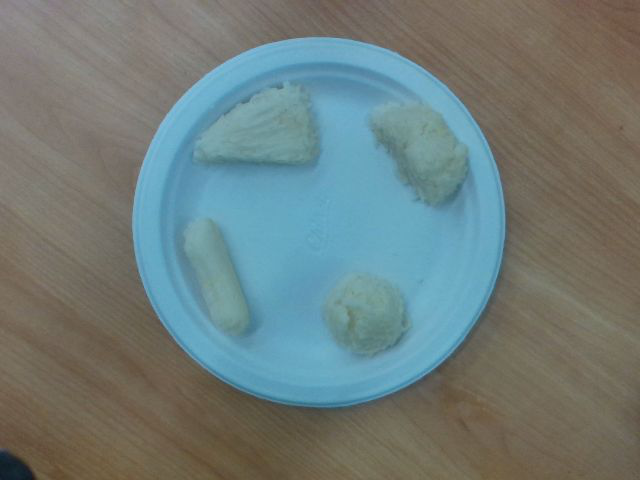mashed_potato: (195, 86, 320, 167), (371, 102, 466, 201), (183, 218, 249, 334), (322, 272, 408, 358)
